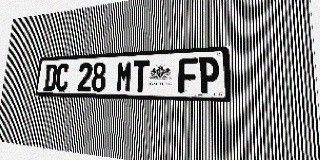2: (77, 62, 93, 92)
8: (91, 62, 107, 92)
C: (55, 63, 70, 91)
D: (43, 64, 57, 91)
F: (178, 58, 198, 93)
M: (116, 61, 133, 92)
P: (198, 57, 219, 93)
T: (132, 60, 150, 92)
